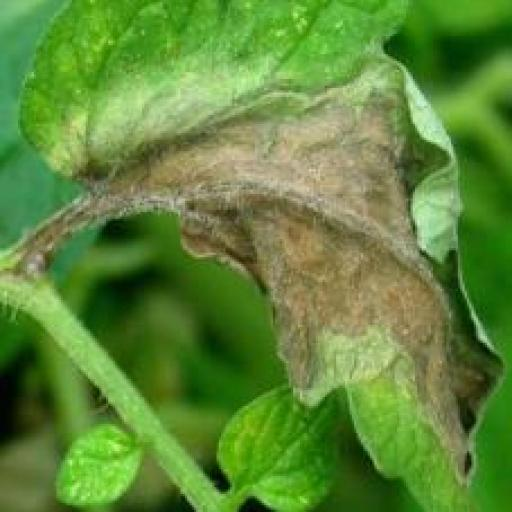Late Blight: (7, 0, 510, 510)
